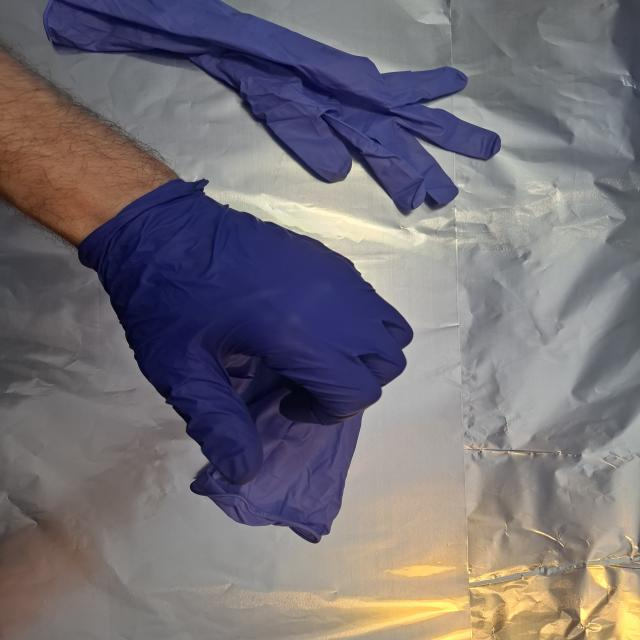glove_on: (85, 181, 418, 491)
